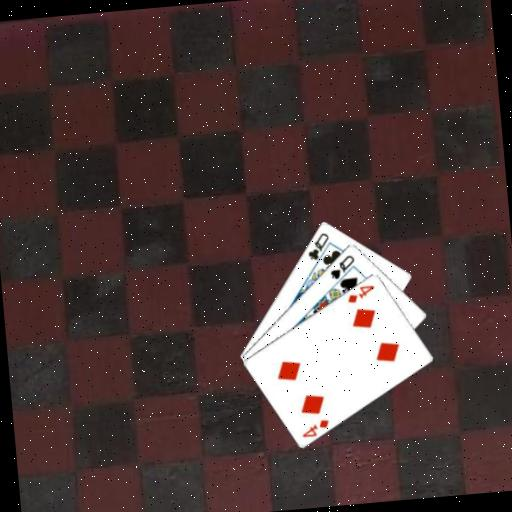4D: (298, 415, 332, 439), (343, 282, 377, 305)
QC: (303, 229, 332, 263)
QS: (326, 251, 358, 281)
